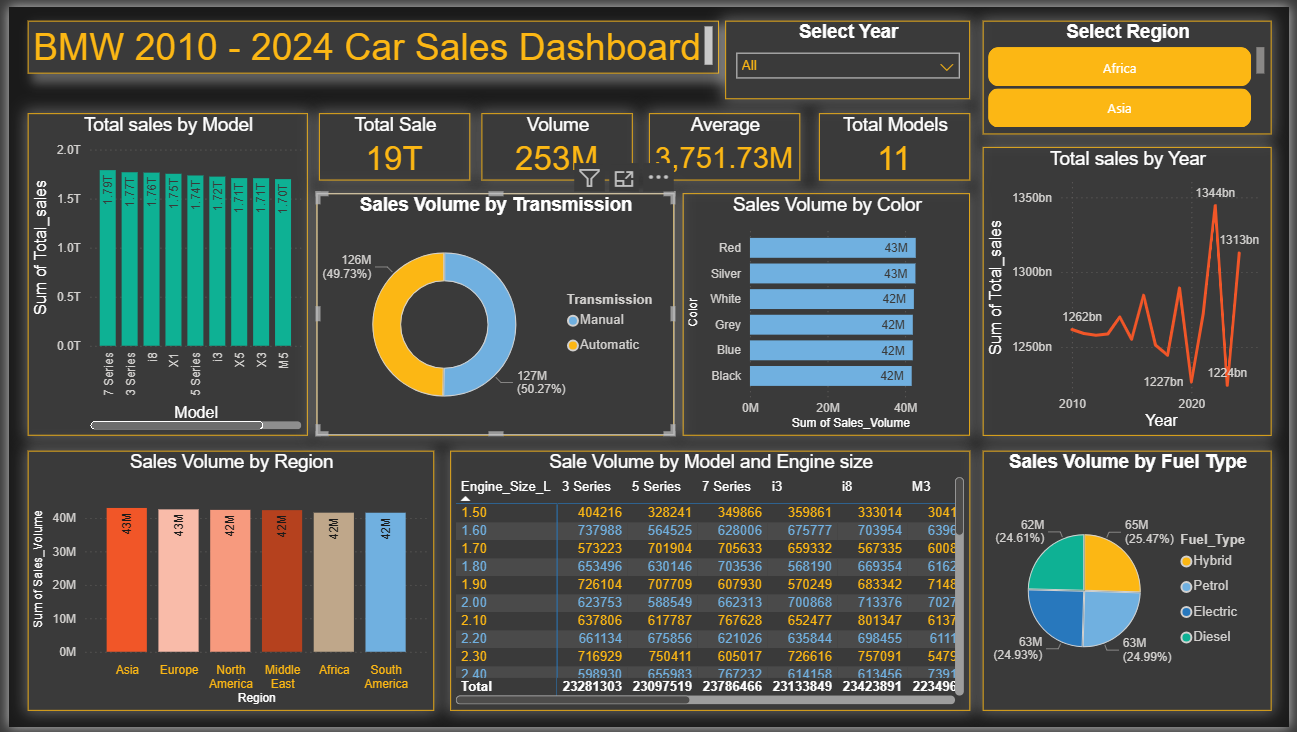

Layout of this report page (visuals, bound fields, positions):
{"tool":"powerbi","page":{"name":"Page 1","canvas":[1280,720],"ordinal":0},"visuals":[{"type":"columnChart","title":"Total sales by Model","fields":{"Category":["BMW sales data (2010-2024).Model"],"Y":["Sum(BMW sales data (2010-2024).Total_sales)"]},"box":[18.8,106.2,280,322.5],"z":0},{"type":"pivotTable","title":"Sale Volume by Model and Engine size","fields":{"Rows":["BMW sales data (2010-2024).Engine_Size_L"],"Columns":["BMW sales data (2010-2024).Model"],"Values":["Sum(BMW sales data (2010-2024).Sales_Volume)"]},"box":[441.2,443.8,520,260],"z":1000},{"type":"pieChart","title":"Sales Volume by Fuel Type","fields":{"Category":["BMW sales data (2010-2024).Fuel_Type"],"Y":["Sum(BMW sales data (2010-2024).Sales_Volume)"]},"box":[973.8,443.8,288.8,260],"z":2000},{"type":"lineChart","title":"Total sales by Year","fields":{"Y":["Sum(BMW sales data (2010-2024).Total_sales)"],"Category":["BMW sales data (2010-2024).Year"]},"box":[973.8,140,288.8,288.8],"z":3000},{"type":"columnChart","title":"Sales Volume by Region","fields":{"Category":["BMW sales data (2010-2024).Region"],"Y":["Sum(BMW sales data (2010-2024).Sales_Volume)"]},"box":[18.8,443.8,406.2,260],"z":4000},{"type":"donutChart","title":"Sales Volume by Transmission","fields":{"Category":["BMW sales data (2010-2024).Transmission"],"Y":["Sum(BMW sales data (2010-2024).Sales_Volume)"]},"box":[307.5,186.2,357.5,242.5],"z":5000},{"type":"barChart","title":"Sales Volume by Color","fields":{"Category":["BMW sales data (2010-2024).Color"],"Y":["Sum(BMW sales data (2010-2024).Sales_Volume)"]},"box":[673.8,186.2,287.5,242.5],"z":6000},{"type":"listSlicer","title":"Select Region","fields":{"Values":["BMW sales data (2010-2024).Region"]},"box":[973.8,13.8,288.8,113.8],"z":7000},{"type":"card","title":"Total Sale","fields":{"Values":["Sum(BMW sales data (2010-2024).Total_sales)"]},"box":[310,106.2,151.2,67.5],"z":8000},{"type":"card","title":"Volume","fields":{"Values":["Sum(BMW sales data (2010-2024).Sales_Volume)"]},"box":[472.5,106.2,151.2,67.5],"z":9000},{"type":"card","title":"Average","fields":{"Values":["Sum(BMW sales data (2010-2024).Average_Price)"]},"box":[640,106.2,151.2,67.5],"z":10000},{"type":"card","title":"Total Models","fields":{"Values":["Count(BMW sales data (2010-2024).Model)"]},"box":[810,106.2,151.2,67.5],"z":11000},{"type":"textbox","box":[18.8,13.8,691.2,52.5],"z":12000},{"type":"slicer","title":"Select Year","fields":{"Values":["BMW sales data (2010-2024).Year"]},"box":[716.2,13.8,245,78.8],"z":13000}]}

Visuals, with their boxes in screenshot pixels (x1, y1, x2, y2), scaled from the page's 1280x720 canvas onto the 1297x732 screenshot:
"Total sales by Model" columnChart: [left=19, top=108, right=303, bottom=436]
"Sale Volume by Model and Engine size" pivotTable: [left=447, top=451, right=974, bottom=716]
"Sales Volume by Fuel Type" pieChart: [left=987, top=451, right=1279, bottom=716]
"Total sales by Year" lineChart: [left=987, top=142, right=1279, bottom=436]
"Sales Volume by Region" columnChart: [left=19, top=451, right=431, bottom=716]
"Sales Volume by Transmission" donutChart: [left=312, top=189, right=674, bottom=436]
"Sales Volume by Color" barChart: [left=683, top=189, right=974, bottom=436]
"Select Region" listSlicer: [left=987, top=14, right=1279, bottom=130]
"Total Sale" card: [left=314, top=108, right=467, bottom=177]
"Volume" card: [left=479, top=108, right=632, bottom=177]
"Average" card: [left=648, top=108, right=802, bottom=177]
"Total Models" card: [left=821, top=108, right=974, bottom=177]
textbox: [left=19, top=14, right=719, bottom=67]
"Select Year" slicer: [left=726, top=14, right=974, bottom=94]
